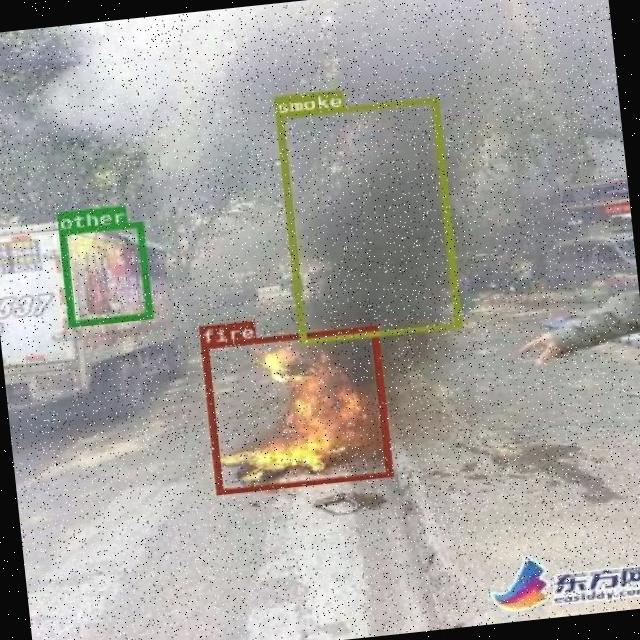smoke: (274, 96, 460, 344)
